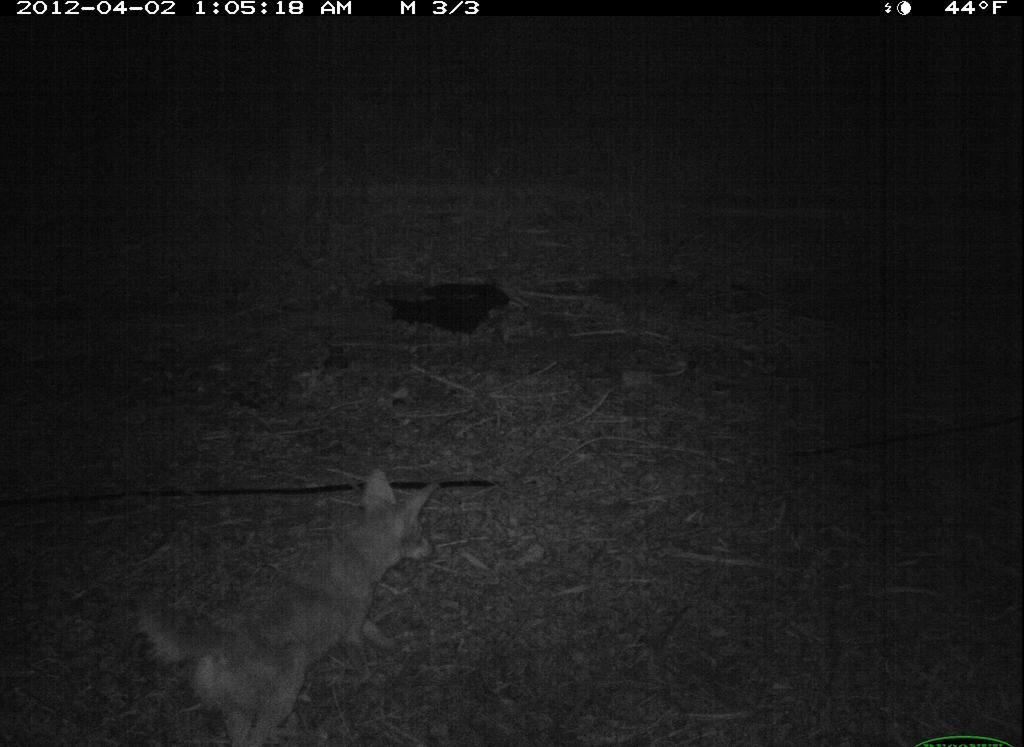coyote: (121, 463, 440, 740)
